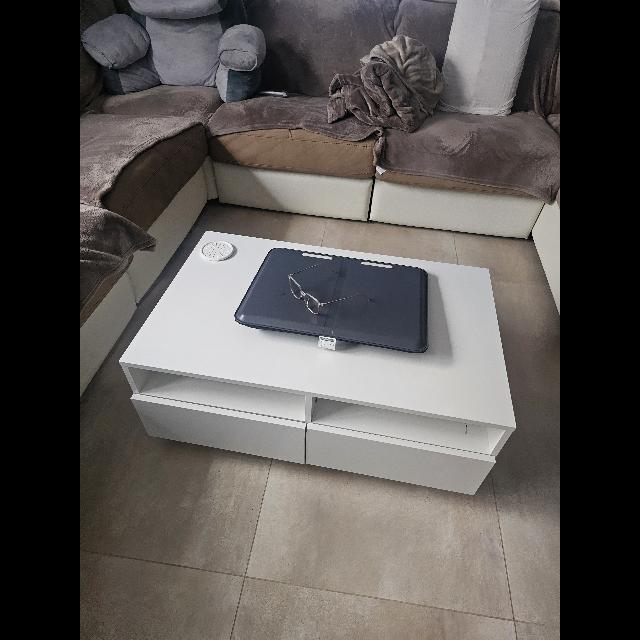glasses: (288, 263, 370, 315)
